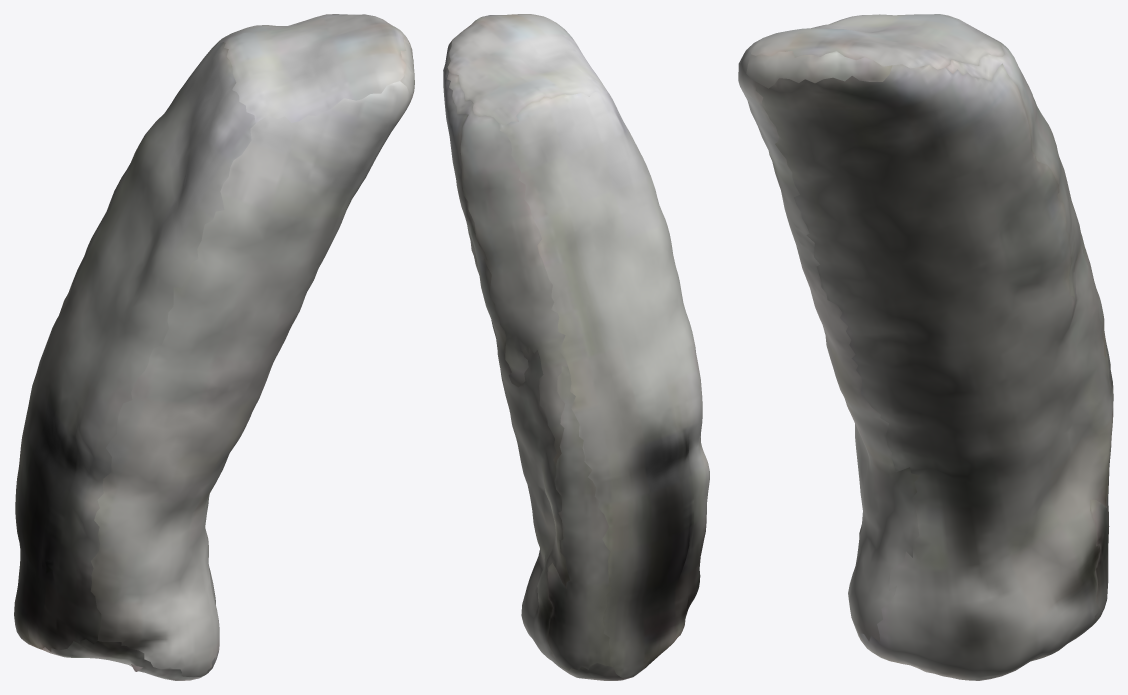
The model's file is 7_pillow.glb.
The picture shows the model from 3 angles, left to right: view 1: azimuth 30°, elevation 25°; view 2: azimuth 150°, elevation 25°; view 3: azimuth 270°, elevation 25°; orthographic projection. The views are drawn at different scales.
Visible parts, largest first — view 1: 7_pillow; view 2: 7_pillow; view 3: 7_pillow.
Boxes of the visible parts, x1,y1,x2,y2 form: 7_pillow: (14, 14, 414, 680); 7_pillow: (443, 14, 709, 680); 7_pillow: (738, 14, 1113, 680).
Bounding box in the file's own units: 0.2468 × 0.486 × 0.231.
1 material, 1 textured.
